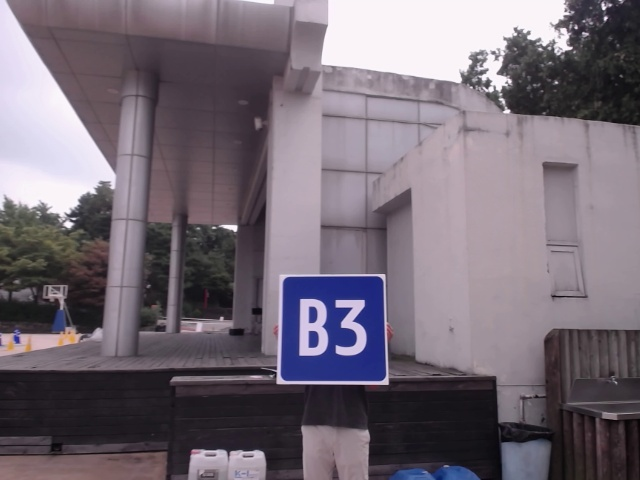delivery_b3: (281, 275, 389, 383)
